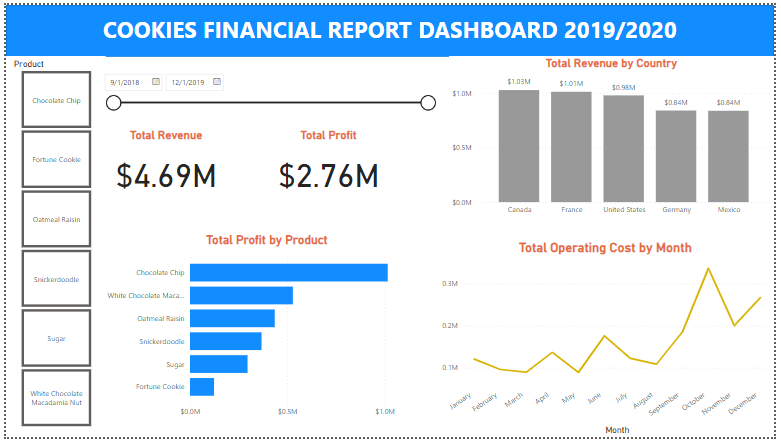

The page's visual inventory and layout, read from the dashboard file:
{"tool":"powerbi","page":{"name":"Page 1","canvas":[1280,720],"ordinal":0},"visuals":[{"type":"shape","box":[0,0,1280,86.3],"z":0},{"type":"textbox","box":[0,10.4,1280,65.6],"z":1000},{"type":"clusteredColumnChart","title":"Total Revenue by Country","fields":{"Y":["Sum(financials.Revenue)"],"Category":["financials.Country"]},"box":[738.3,85.8,541.7,273.5],"z":2000},{"type":"barChart","title":"Total Profit by Product","fields":{"Category":["financials.Product"],"Y":["Sum(financials.Profit)"]},"box":[152,380.8,566.7,316.4],"z":3000},{"type":"lineChart","title":"Total Operating Cost by Month","fields":{"Y":["Sum(financials.Cost)"],"Category":["financials.Date.Variation.Date Hierarchy.Month"]},"box":[718.7,391.5,561.3,328.9],"z":4000},{"type":"card","title":"Total Revenue","fields":{"Values":["Sum(financials.Revenue)"]},"box":[137.7,205.6,257.4,121.6],"z":5000},{"type":"card","title":"Total Profit","fields":{"Values":["Sum(financials.Profit)"]},"box":[411.2,205.6,252.1,121.6],"z":6000},{"type":"slicer","fields":{"Values":["financials.Product"]},"box":[0,85.8,166.3,623.9],"z":6001},{"type":"slicer","fields":{"Values":["financials.Date"]},"box":[152,105.5,573.9,85.8],"z":6002}]}

Visuals, with their boxes in screenshot pixels (x1, y1, x2, y2), scaled from the page's 1280x720 canvas onto the 781x445 screenshot:
shape: [left=0, top=0, right=780, bottom=53]
textbox: [left=0, top=6, right=780, bottom=47]
"Total Revenue by Country" clusteredColumnChart: [left=450, top=53, right=780, bottom=222]
"Total Profit by Product" barChart: [left=93, top=235, right=439, bottom=431]
"Total Operating Cost by Month" lineChart: [left=439, top=242, right=780, bottom=444]
"Total Revenue" card: [left=84, top=127, right=241, bottom=202]
"Total Profit" card: [left=251, top=127, right=405, bottom=202]
slicer - financials.Product: [left=0, top=53, right=101, bottom=439]
slicer - financials.Date: [left=93, top=65, right=443, bottom=118]
